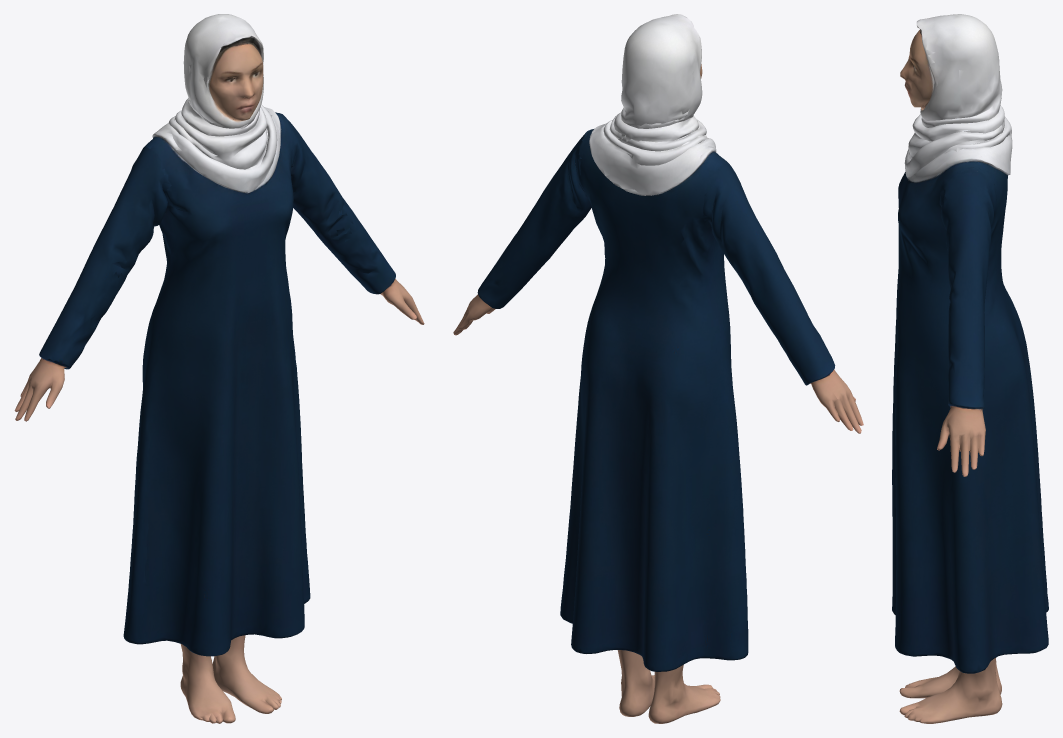
Rendered from femme_1.glb.
The picture shows the model from 3 angles, left to right: view 1: azimuth 30°, elevation 25°; view 2: azimuth 150°, elevation 25°; view 3: azimuth 270°, elevation 25°; orthographic projection.
Parts seen in each view (by area): view 1: Mesh; view 2: Mesh; view 3: Mesh.
Boxes of the visible parts, x1,y1,x2,y2 form: Mesh: (14,14,424,723); Mesh: (453,14,863,723); Mesh: (892,14,1048,723).
Bounding box in the file's own units: 1.18 × 1.89 × 0.3903.
1 material, 1 textured.
